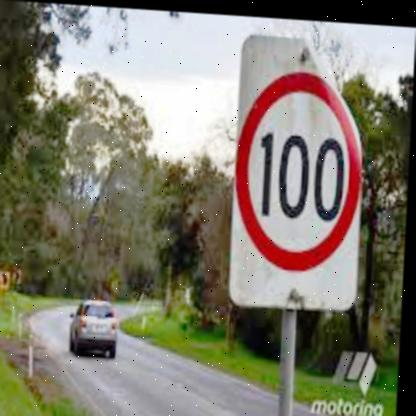Speed Limit -100-: (231, 64, 367, 276)
